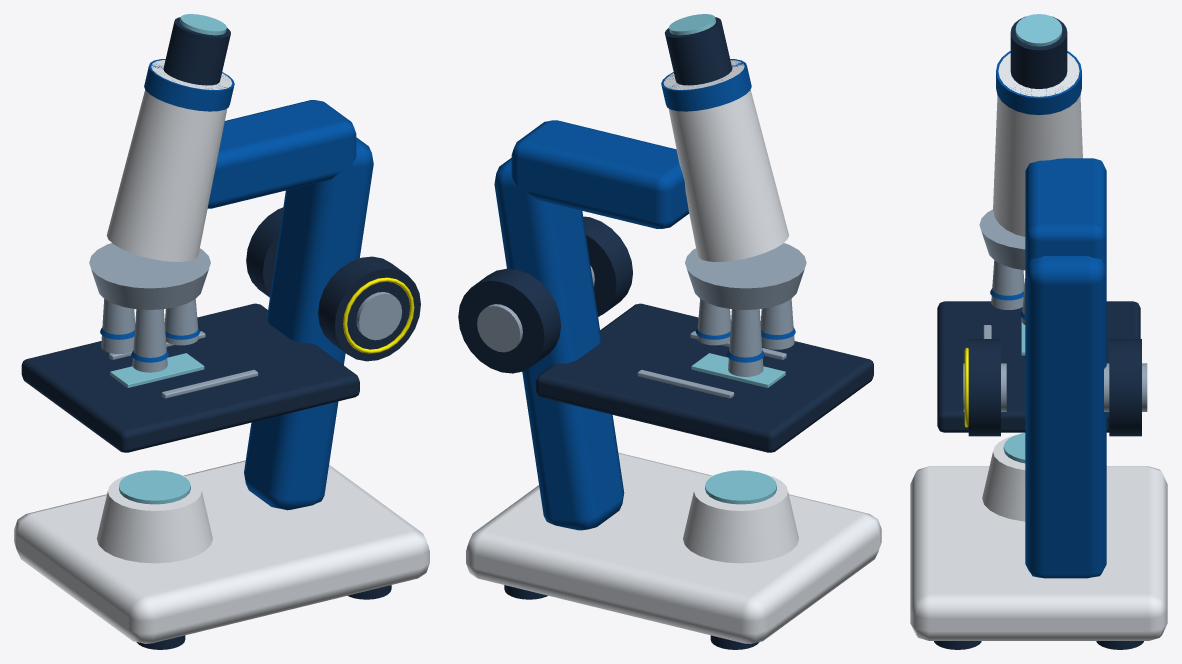
The model's file is microscope.glb.
3 views of the same model, side by side, from view 1: azimuth 30°, elevation 25°; view 2: azimuth 150°, elevation 25°; view 3: azimuth 270°, elevation 25° (orthographic). The views are drawn at different scales.
Visible parts, largest first — view 1: Base, Platine, Colonne, Corps optique, Bras supérieur, Mise au point (×2), Lampe, Tourelle, Objectif (×3), Oculaire, Bague, Lentille éclairage (+5 smaller); view 2: Base, Platine, Colonne, Corps optique, Bras supérieur, Mise au point (×2), Lampe, Tourelle, Objectif (×3), Oculaire, Bague, Lentille éclairage (+4 smaller); view 3: Base, Colonne, Platine, Bras supérieur, Corps optique, Mise au point (×2), Oculaire, Lampe, Bague, Tourelle, Lentille oculaire, Objectif (+3 smaller).
Part boxes in pixels (x1,y1,x2,y2): Base: (14, 460, 429, 643); Platine: (21, 303, 359, 452); Colonne: (244, 137, 373, 510); Corps optique: (106, 60, 232, 261); Bras supérieur: (207, 100, 356, 208); Mise au point (×2): (246, 207, 420, 361); Lampe: (96, 473, 212, 563); Tourelle: (89, 243, 210, 309); Objectif (×3): (101, 299, 198, 372); Oculaire: (163, 17, 230, 85); Bague: (144, 59, 234, 111); Lentille éclairage: (119, 470, 190, 504); Base: (466, 452, 881, 643); Platine: (536, 303, 873, 452); Colonne: (494, 158, 624, 530); Corps optique: (663, 60, 788, 261); Bras supérieur: (511, 120, 689, 228); Mise au point (×2): (458, 216, 632, 373); Lampe: (683, 474, 798, 563); Tourelle: (685, 243, 806, 309); Objectif (×3): (697, 299, 794, 376); Oculaire: (665, 17, 732, 85); Bague: (661, 59, 751, 111); Lentille éclairage: (705, 470, 776, 504); Base: (910, 466, 1167, 640); Colonne: (1025, 256, 1106, 578); Platine: (937, 301, 1140, 432); Bras supérieur: (1025, 158, 1106, 265); Corps optique: (993, 53, 1082, 236); Mise au point (×2): (968, 339, 1141, 436); Oculaire: (1010, 16, 1067, 88); Lampe: (982, 434, 1025, 521); Bague: (996, 51, 1081, 114); Tourelle: (979, 209, 1025, 270); Lentille oculaire: (1015, 14, 1062, 46); Objectif: (991, 260, 1024, 309).
Size of the model in its own units: 1.31 by 2.28 by 0.95.
